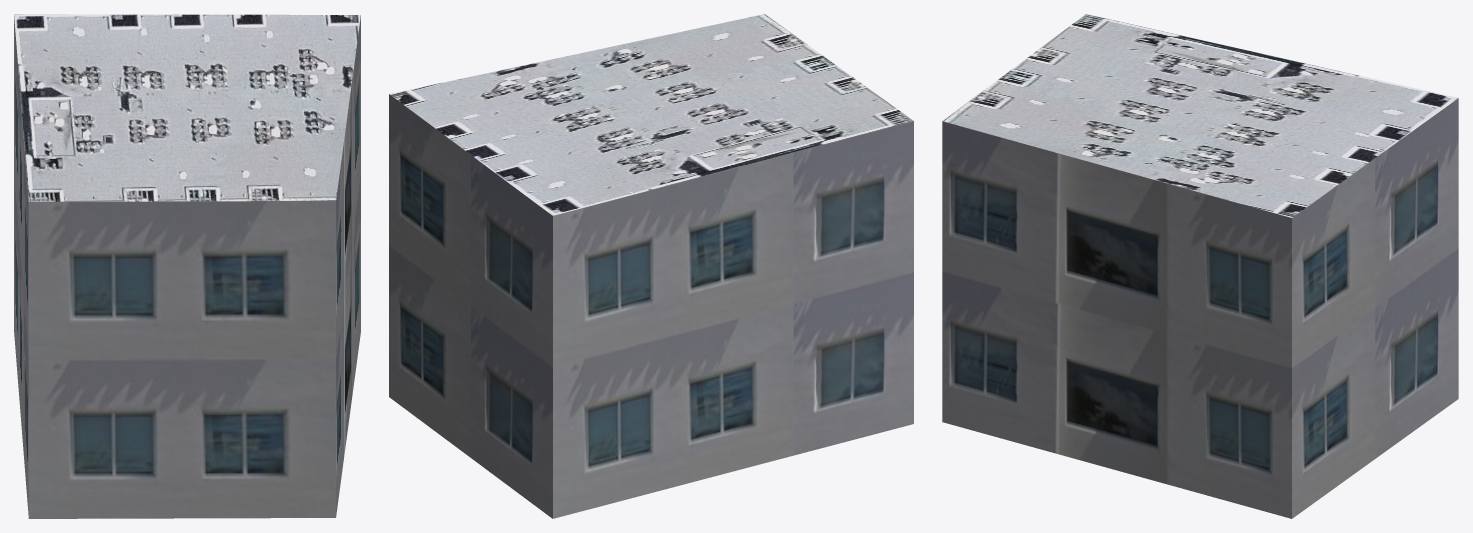
The model's file is ResTex__1142.fbx.
The picture shows the model from 3 angles, left to right: view 1: azimuth 30°, elevation 25°; view 2: azimuth 150°, elevation 25°; view 3: azimuth 270°, elevation 25°; orthographic projection. The views are drawn at different scales.
Visible parts, largest first — view 1: CityEngineMaterial_10_m, CityEngineMaterial_2_m; view 2: CityEngineMaterial_10_m, CityEngineMaterial_2_m; view 3: CityEngineMaterial_10_m, CityEngineMaterial_2_m.
Boxes of the visible parts, x1=… form: CityEngineMaterial_10_m: x1=14, y1=16, x2=360, y2=518; CityEngineMaterial_2_m: x1=14, y1=14, x2=360, y2=201; CityEngineMaterial_10_m: x1=389, y1=94, x2=913, y2=518; CityEngineMaterial_2_m: x1=389, y1=14, x2=913, y2=215; CityEngineMaterial_10_m: x1=942, y1=98, x2=1458, y2=518; CityEngineMaterial_2_m: x1=942, y1=14, x2=1457, y2=217.
Bounding box in the file's own units: 8.73 × 6 × 9.33.
Materials: 2 (2 with a texture image).
